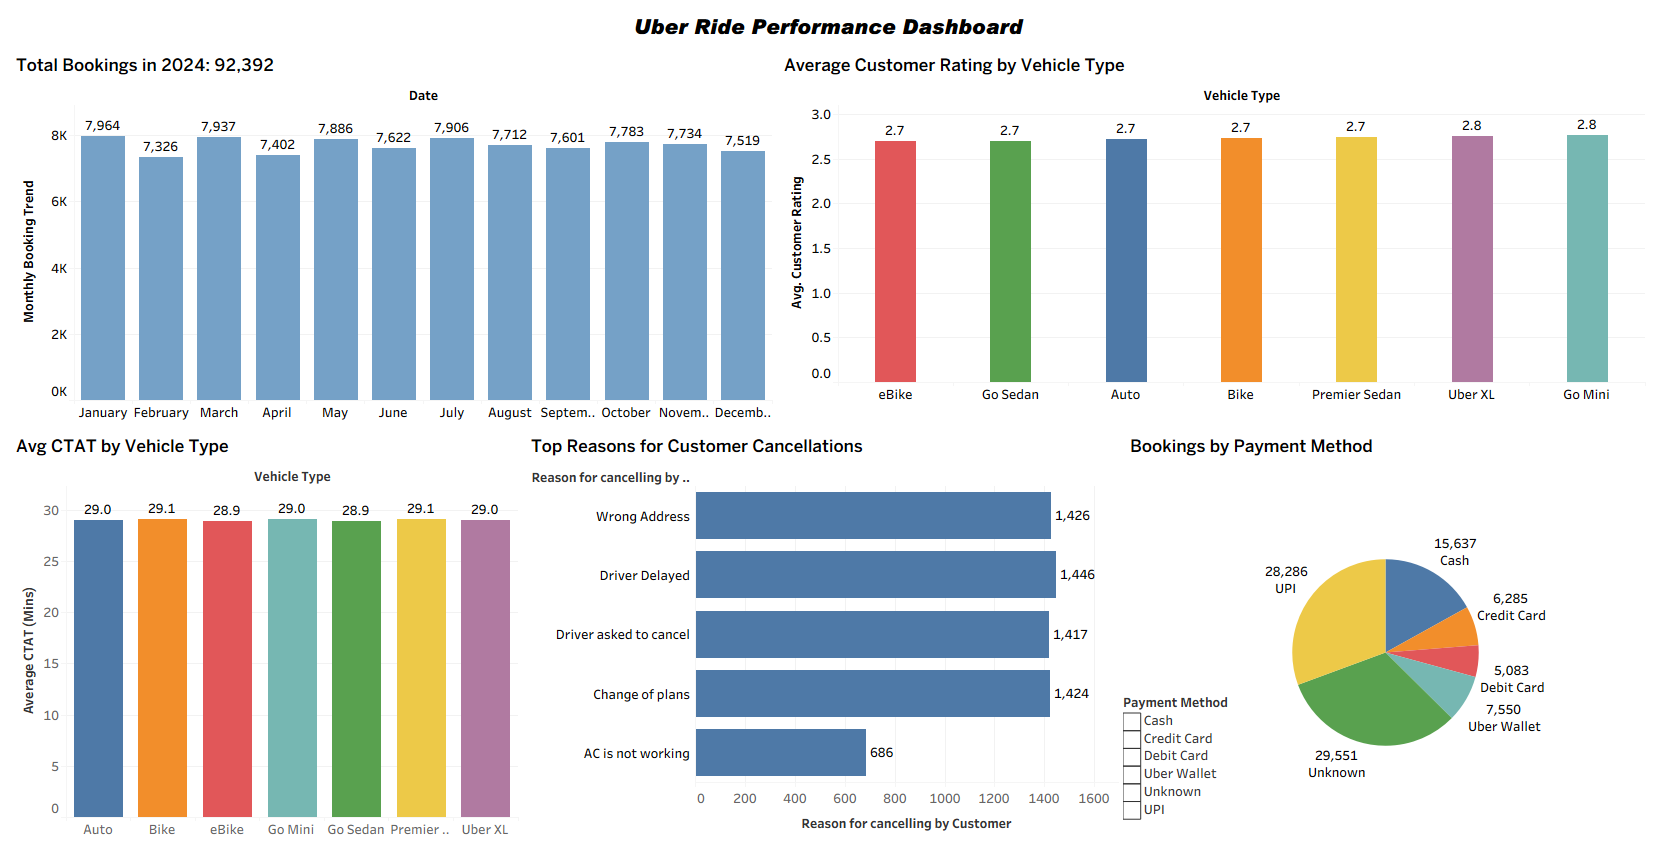

The dashboard page shown, as its layout file describes it:
{"tool":"tableau","page":{"name":"Uber_Dashboard","canvas":[1000,1000],"units":"permille","ordinal":0},"visuals":[{"type":"title","box":[4.8,9.4,990.3,43.5]},{"type":"worksheet","title":"Sheet 1","mark":"Bar","rows":["Booking_ID"],"cols":["Date"],"box":[4.8,52.9,463.5,447.8]},{"type":"worksheet","title":"Sheet 4","mark":"Automatic","rows":["Customer_Rating"],"cols":["Vehicle_Type"],"box":[468.3,52.9,526.8,447.8]},{"type":"worksheet","title":"Sheet 2","mark":"Automatic","rows":["Avg_CTAT"],"cols":["Vehicle_Type"],"box":[4.8,500.6,310.8,490]},{"type":"worksheet","title":"Sheet 5","mark":"Bar","rows":["Reason_for_cancelling_by_Customer"],"cols":["Reason_for_cancelling_by_Customer"],"box":[315.6,500.6,361.5,490]},{"type":"worksheet","title":"Sheet 3","mark":"Pie","box":[677.1,500.6,318,490]},{"type":"filter","title":"Sheet 3","param":"[federated.1wv8zuq0u7nef7166dzor18fj79l].[none:Payment_Method:nk]","box":[677.7,813.2,90.5,152.8]}]}

Visuals, with their boxes on the dashboard's canvas, which has no fixed pixel size, in thousandths of its width and height (x1, y1, x2, y2). These are canvas units, not pixel positions in the 1657x851 screenshot, which may show the page scaled, cropped or inside an application window:
title: box(5, 9, 995, 53)
"Sheet 1" worksheet (Bar marks): box(5, 53, 468, 501)
"Sheet 4" worksheet: box(468, 53, 995, 501)
"Sheet 2" worksheet: box(5, 501, 316, 991)
"Sheet 5" worksheet (Bar marks): box(316, 501, 677, 991)
"Sheet 3" worksheet (Pie marks): box(677, 501, 995, 991)
"Sheet 3" filter: box(678, 813, 768, 966)
